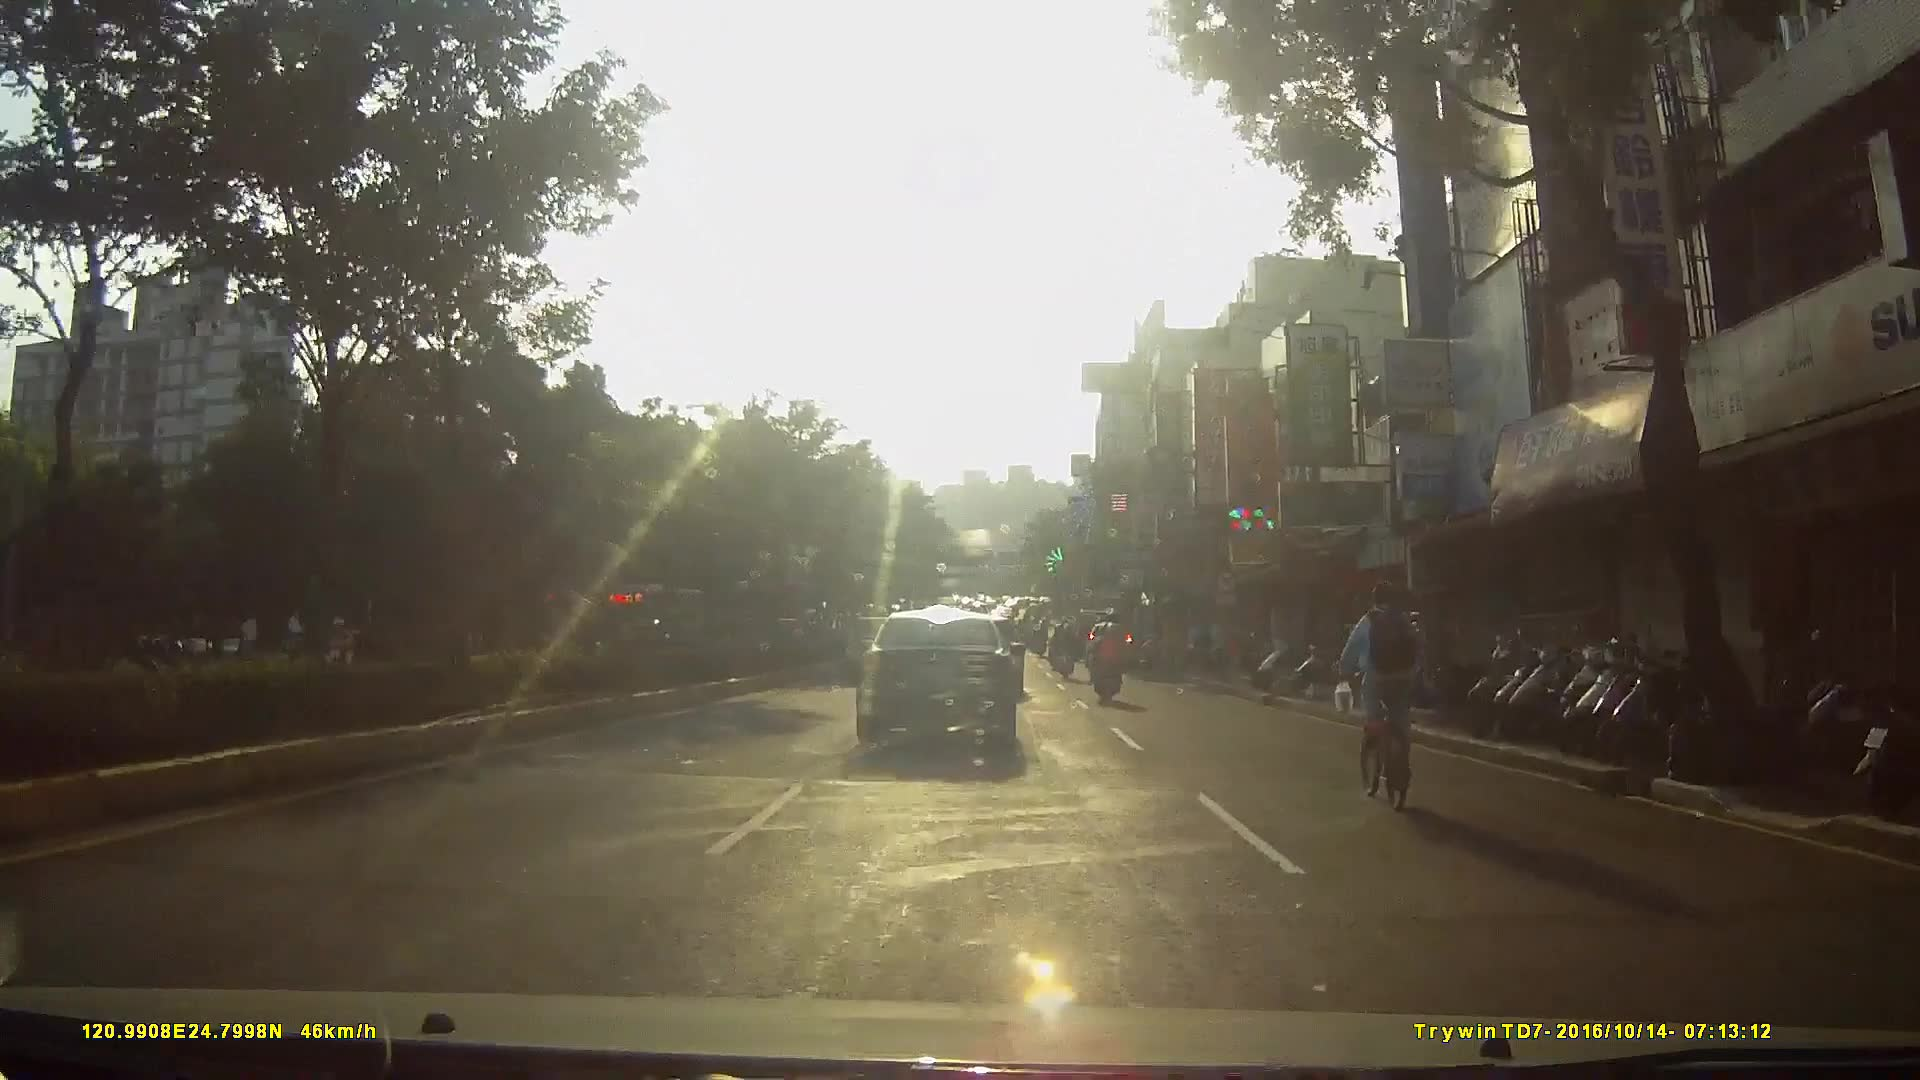rider: (1336, 576, 1425, 806), (1086, 623, 1123, 710), (1048, 619, 1075, 677)
vehicle: (852, 602, 1033, 767)
